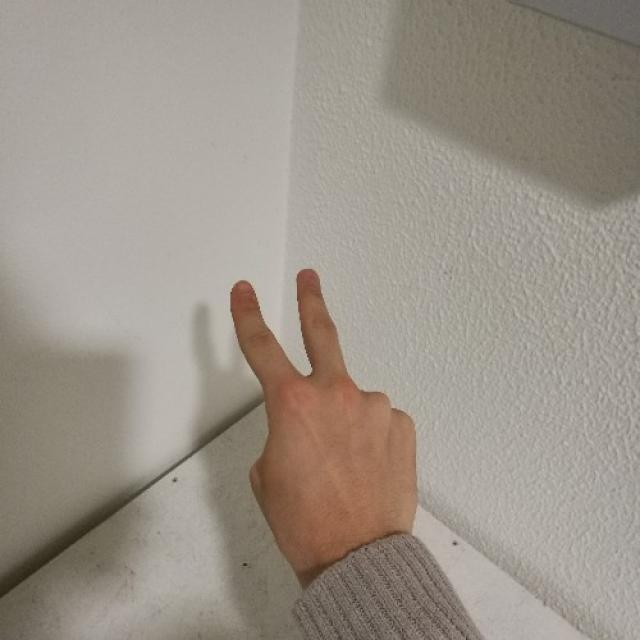scissors: (222, 264, 418, 534)
